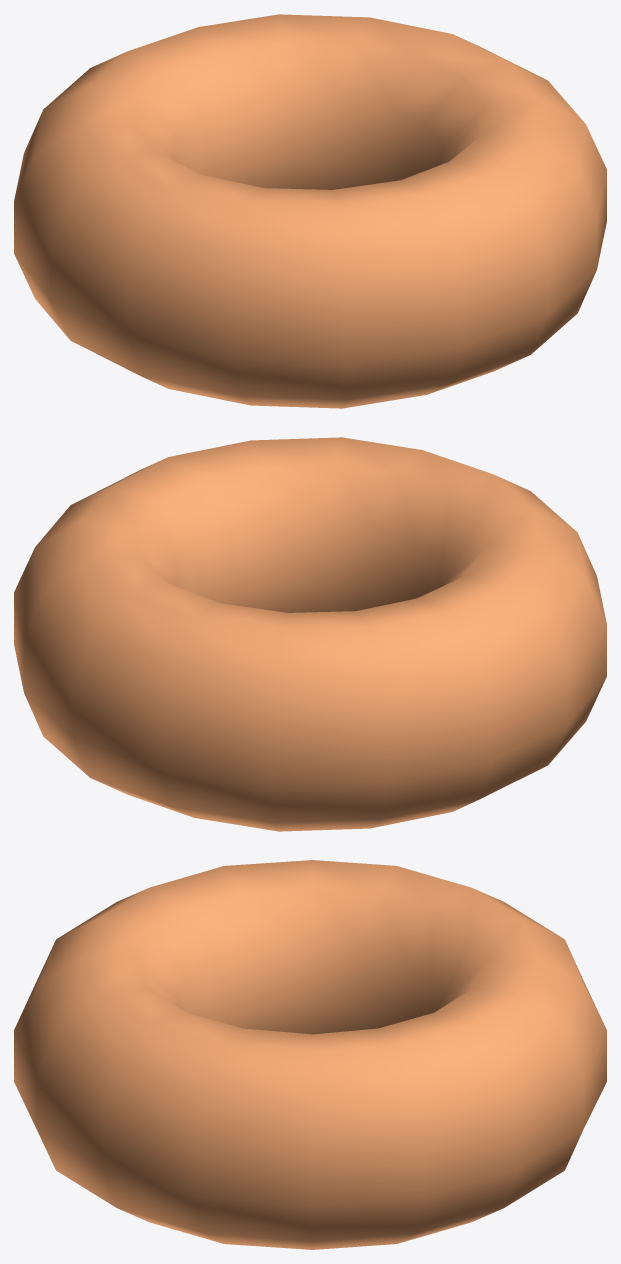
File: candy_assets58.fbx
3 renders of one model, top to bottom at view 1: azimuth 30°, elevation 25°; view 2: azimuth 150°, elevation 25°; view 3: azimuth 270°, elevation 25°, orthographic.
Visible parts, largest first — view 1: candy_assets58; view 2: candy_assets58; view 3: candy_assets58.
Boxes of the visible parts, <box> form: candy_assets58: <box>14,14,606,408</box>; candy_assets58: <box>14,437,606,831</box>; candy_assets58: <box>14,860,606,1249</box>.
Size of the model in its own units: 548 by 202 by 548.
1 material, 1 textured.
